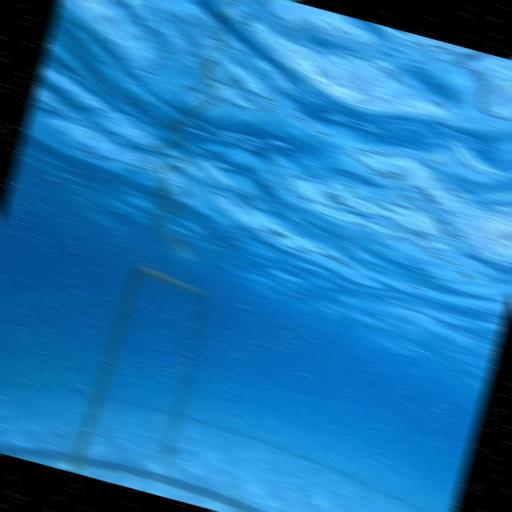gate: (66, 257, 220, 496)
